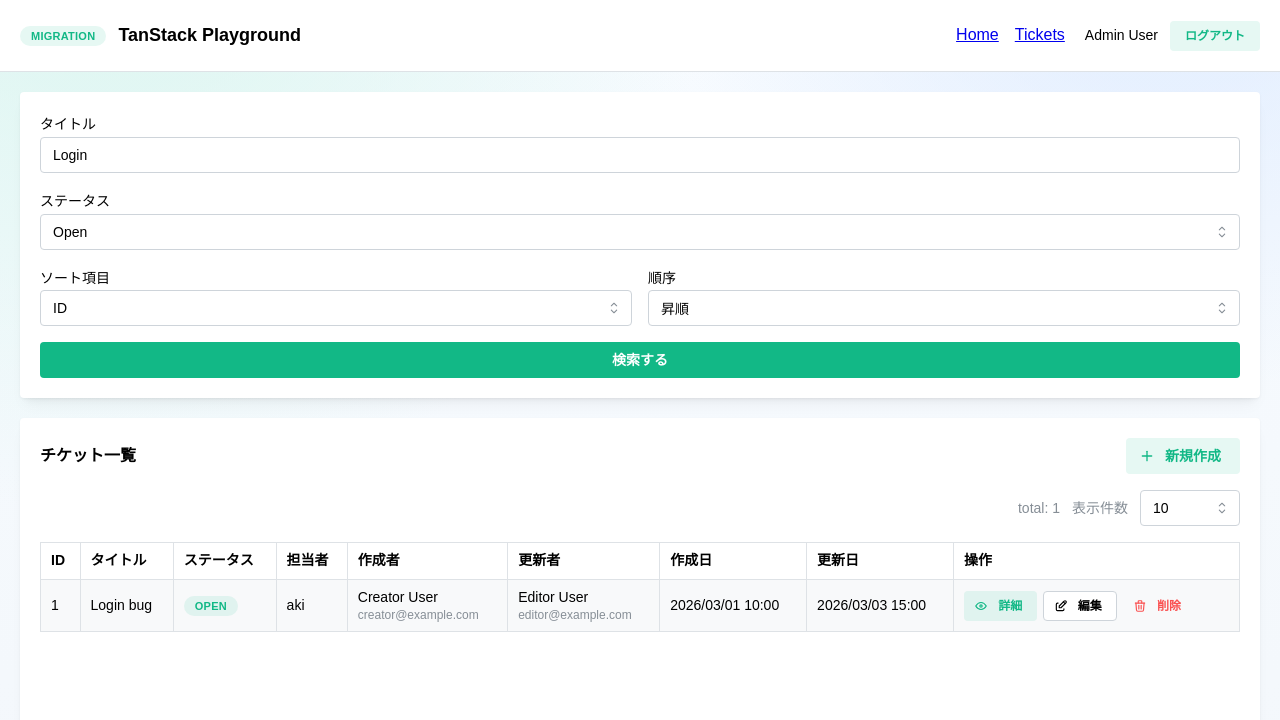
it: ticket CRUD routes › keeps search params when moving between list and detail pages
The width and height of the screenshot is (1280, 720).
expect the text "Login bug" is shown: met, box left=80, top=580, right=173, bottom=632
Step 1. Click the button "詳細" → (1001, 606), box left=964, top=591, right=1037, bottom=621
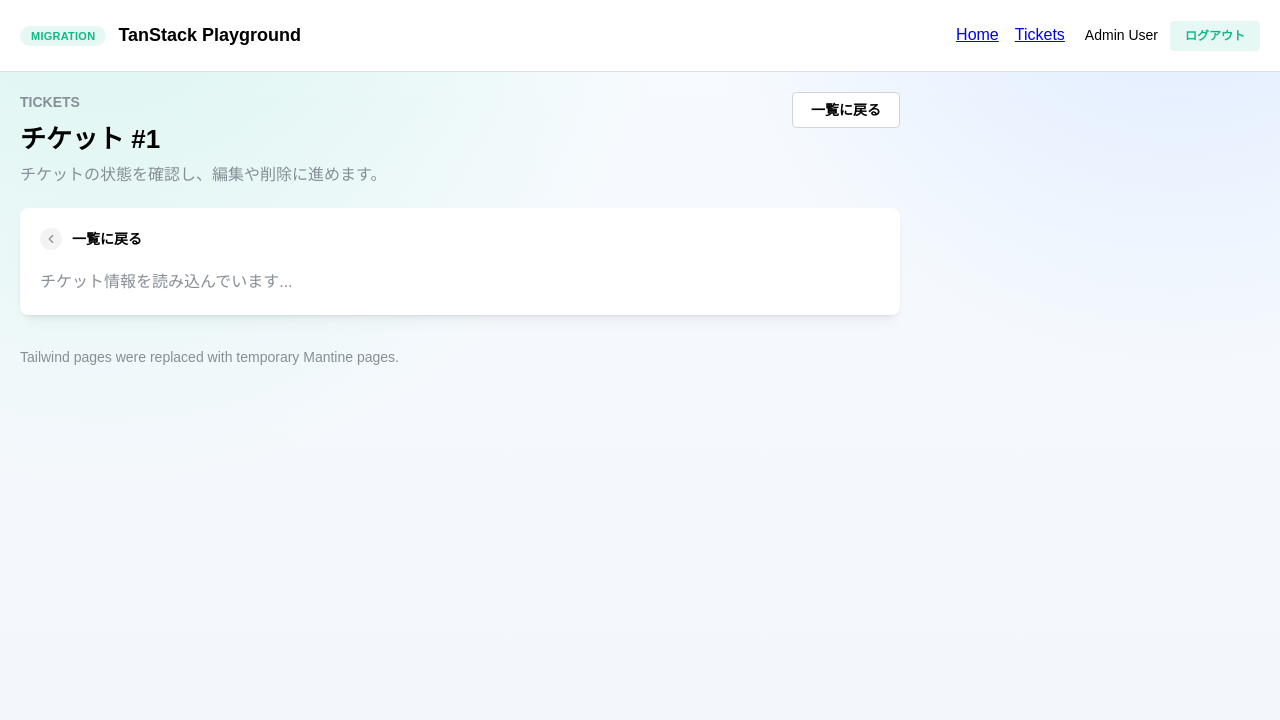
expect the heading "チケット #1" is shown: met, box left=20, top=124, right=160, bottom=154
Step 2. Click the button "一覧に戻る" in the row of "チケット #1" → (846, 110), box left=792, top=92, right=900, bottom=128
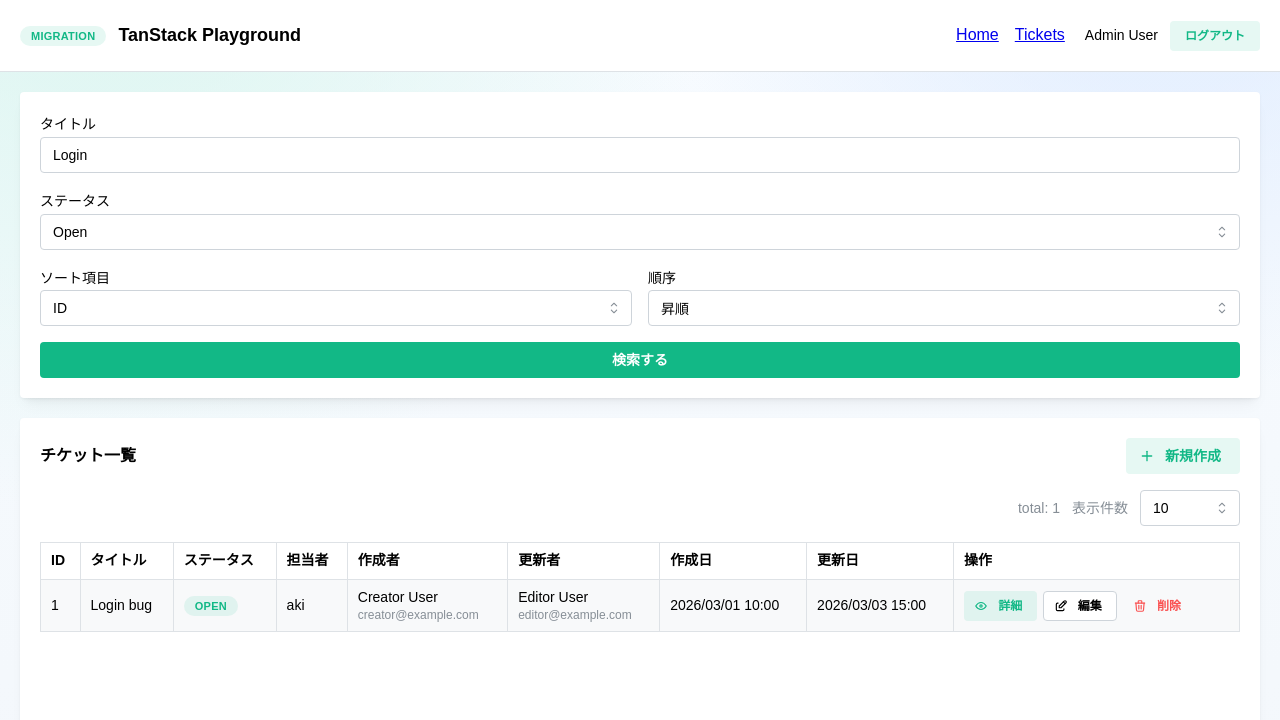
expect the field showing "Login" is shown: met, box left=40, top=137, right=1240, bottom=173
